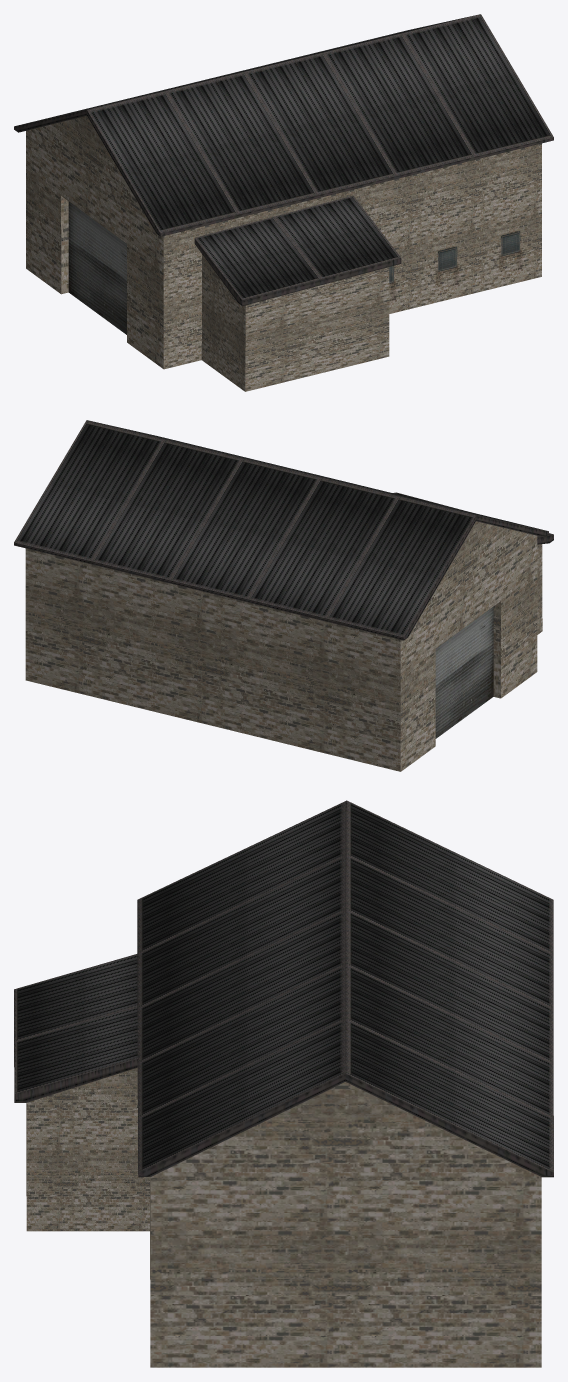
The model's file is hrborbuild_sfn01.obj.
The picture shows the model from 3 angles, top to bottom: view 1: azimuth 30°, elevation 25°; view 2: azimuth 150°, elevation 25°; view 3: azimuth 270°, elevation 25°; orthographic projection. The views are drawn at different scales.
Visible parts, largest first — view 1: hrborbuild_SFN01; view 2: hrborbuild_SFN01; view 3: hrborbuild_SFN01.
Part boxes in pixels (left/top/right/bottom): hrborbuild_SFN01: left=14, top=14, right=553, bottom=391; hrborbuild_SFN01: left=14, top=420, right=553, bottom=771; hrborbuild_SFN01: left=14, top=800, right=553, bottom=1367.
Bounding box in the file's own units: 20.95 × 10.71 × 17.51.
4 materials, 4 textured.
